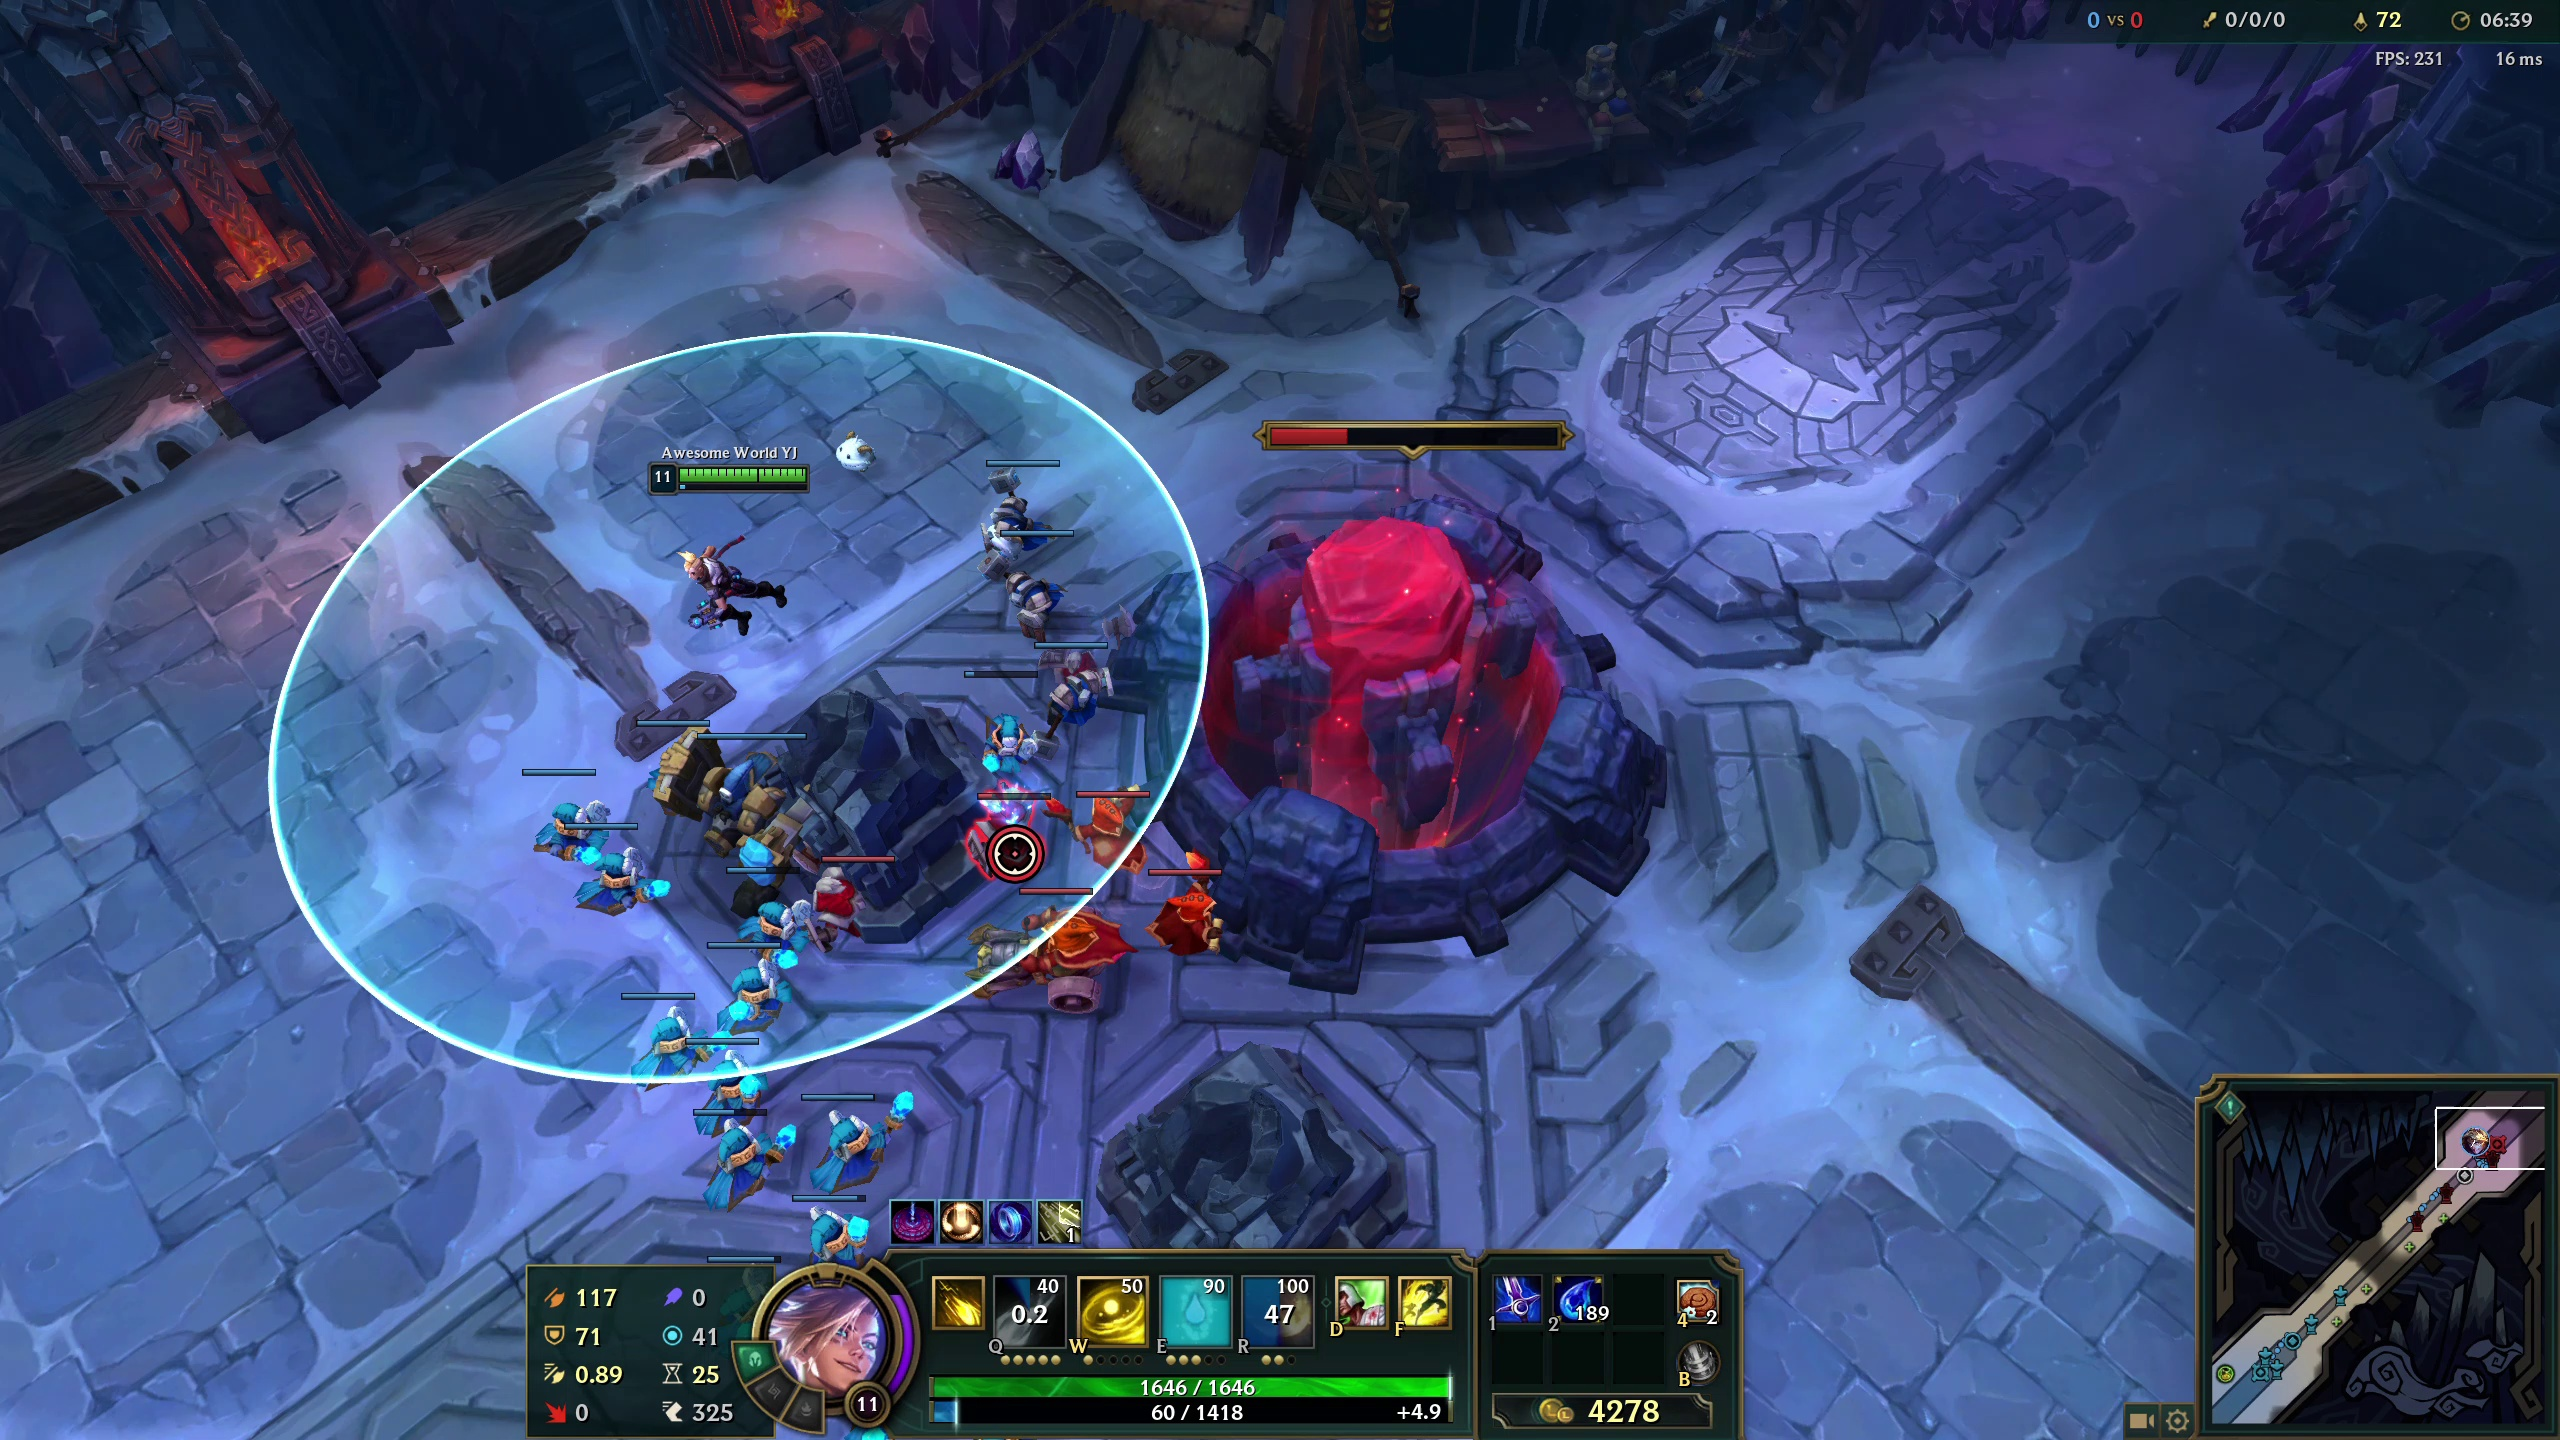EZ: (668, 454, 760, 628)
EnemyMinion: (1076, 779, 1152, 855), (1145, 858, 1220, 934), (812, 847, 888, 923), (969, 800, 1043, 876)
EnemySuperMinnion: (978, 886, 1113, 1011)
Inhibitor: (1204, 549, 1554, 904)
MyMinion: (960, 462, 1058, 557), (986, 527, 1085, 622), (522, 761, 621, 856), (556, 809, 654, 904), (679, 1097, 777, 1192), (659, 1020, 760, 1113), (782, 1162, 883, 1255), (1039, 629, 1138, 723), (956, 680, 1055, 774), (702, 927, 800, 1020), (614, 979, 712, 1073), (802, 1094, 900, 1187)
MySuperMinnion: (710, 731, 830, 879)
